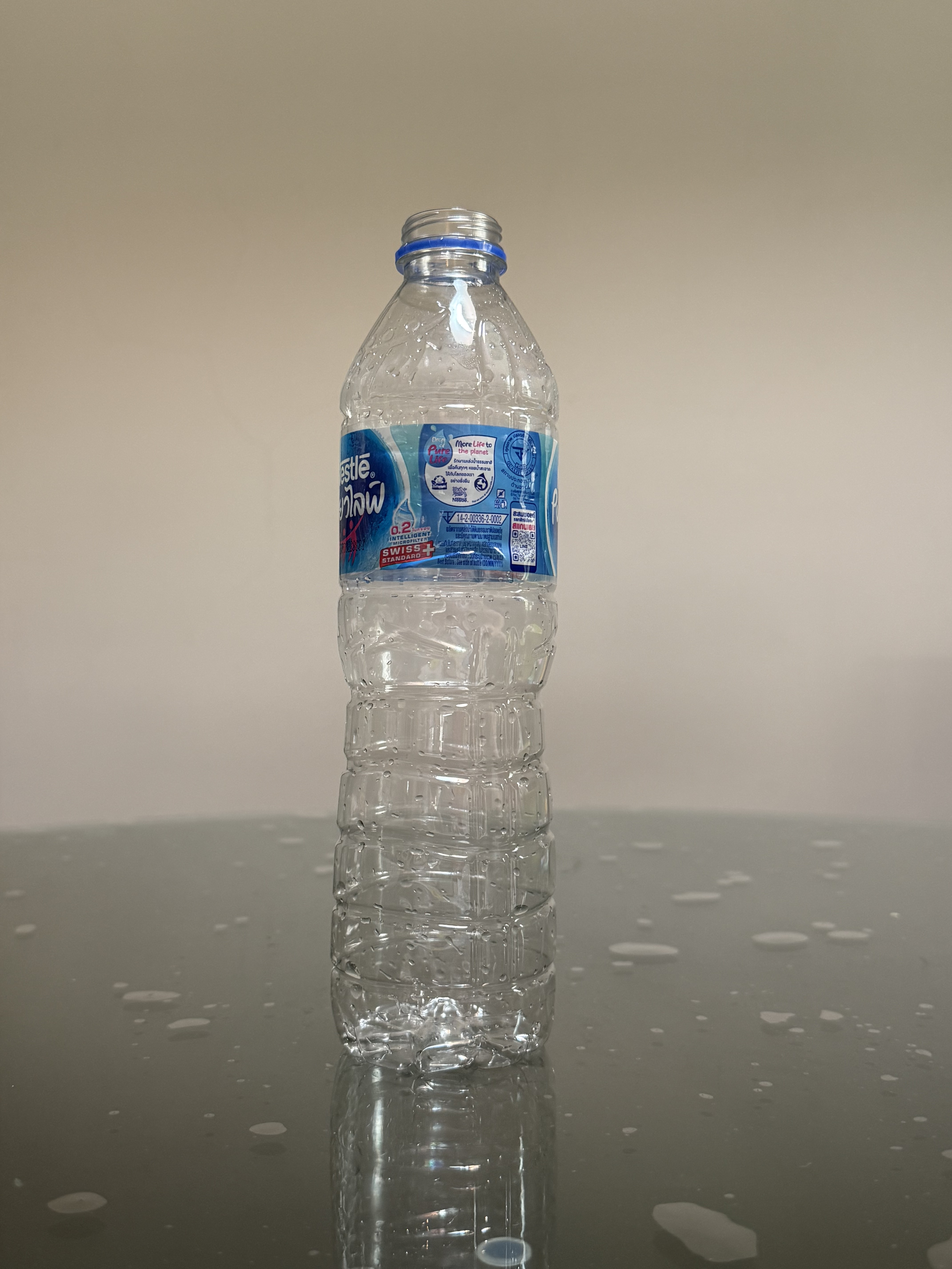no_cap: (395, 206, 509, 267)
